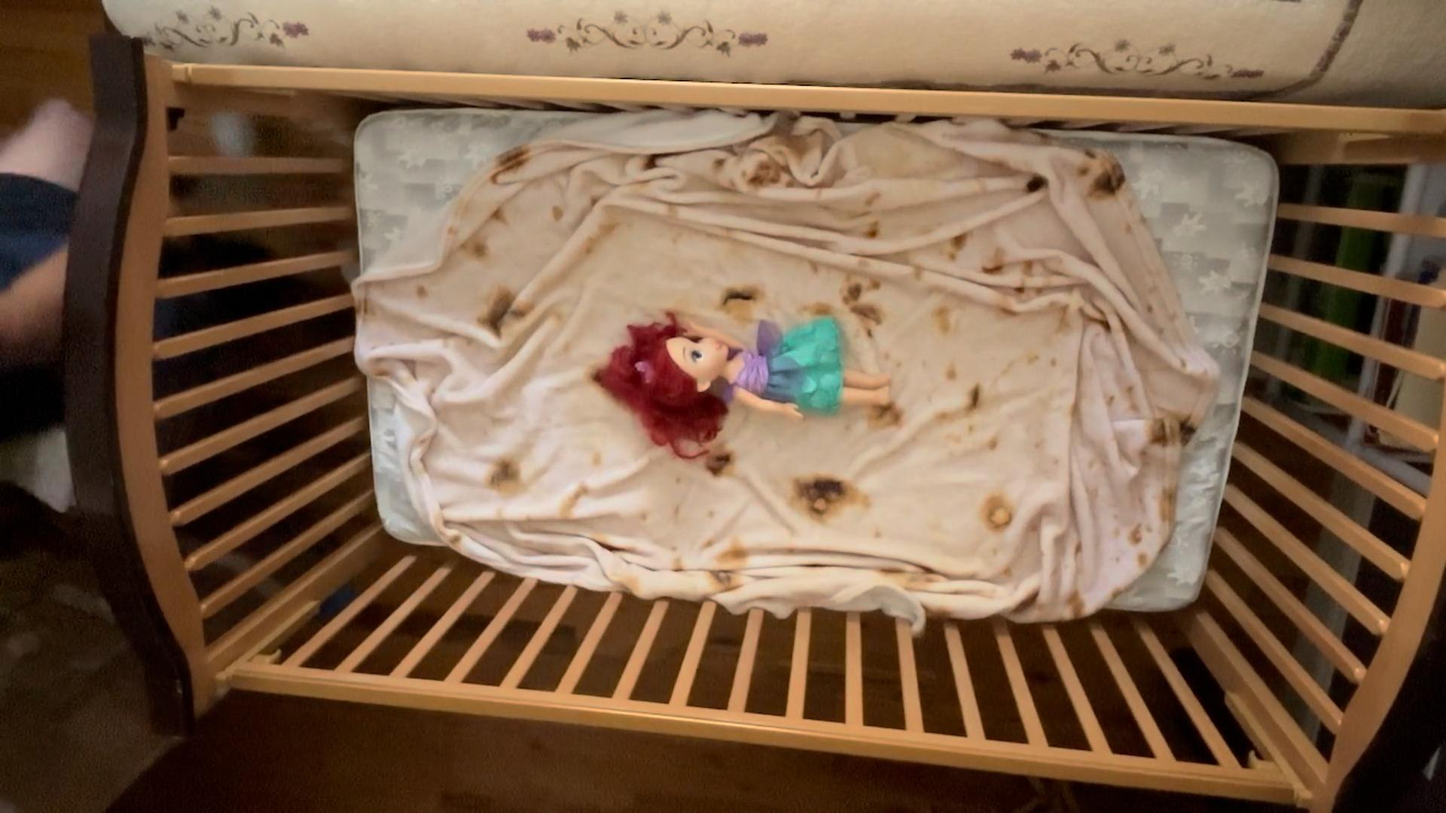baby: (595, 310, 891, 457)
